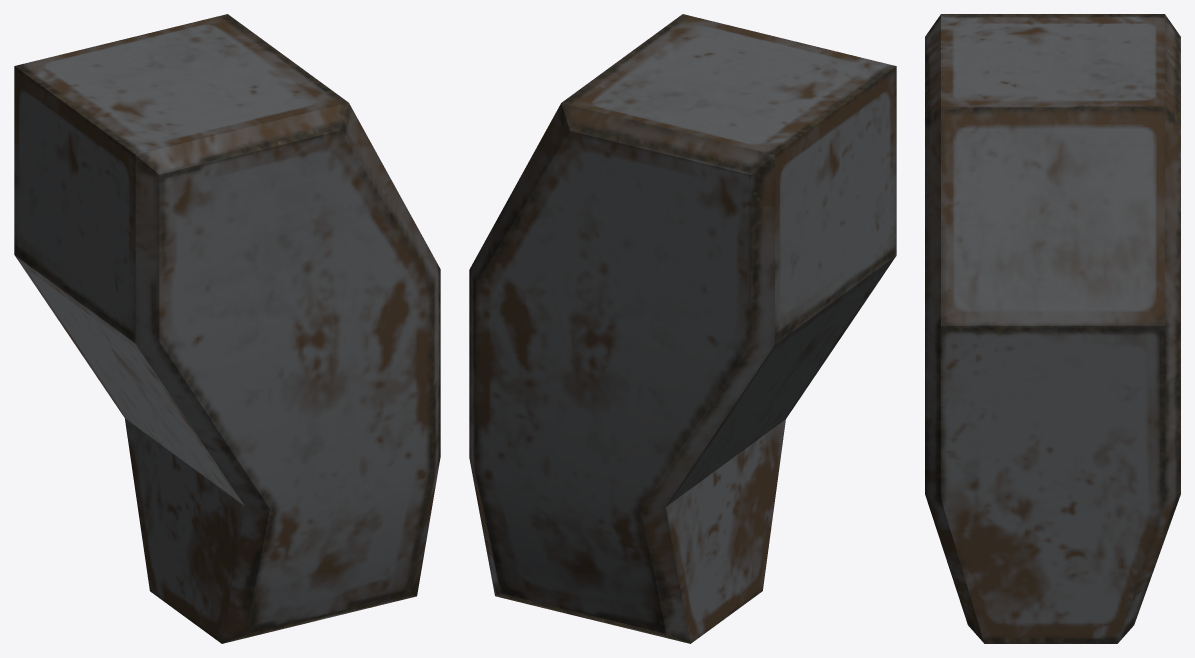
Rendered from mesh_BuildingA_TrimOffsetCap4_v2.3.fbx.
The picture shows the model from 3 angles, left to right: view 1: azimuth 30°, elevation 25°; view 2: azimuth 150°, elevation 25°; view 3: azimuth 270°, elevation 25°; orthographic projection. The views are drawn at different scales.
Visible parts, largest first — view 1: mesh_BuildingA_TrimOffsetCap4; view 2: mesh_BuildingA_TrimOffsetCap4; view 3: mesh_BuildingA_TrimOffsetCap4.
Part boxes in pixels (x1,y1,x2,y2): mesh_BuildingA_TrimOffsetCap4: [14, 14, 440, 643]; mesh_BuildingA_TrimOffsetCap4: [469, 14, 896, 643]; mesh_BuildingA_TrimOffsetCap4: [925, 14, 1180, 643].
Size of the model in its own units: 63.86 by 107 by 50.22.
